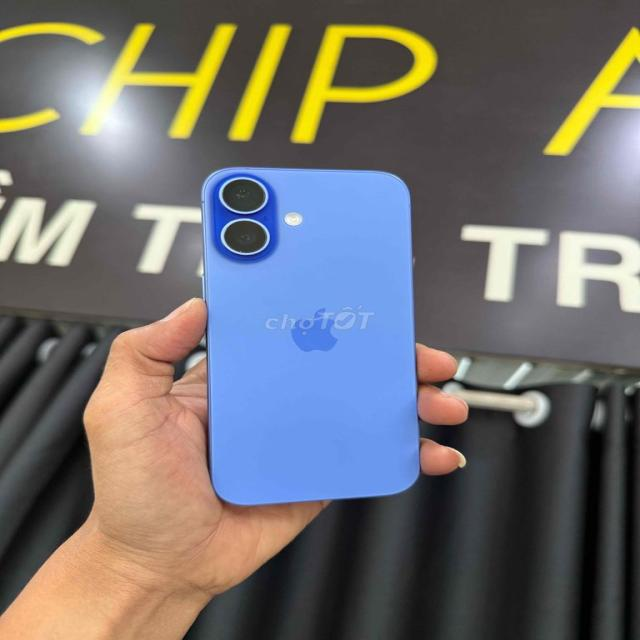gen_16: (202, 167, 418, 504)
